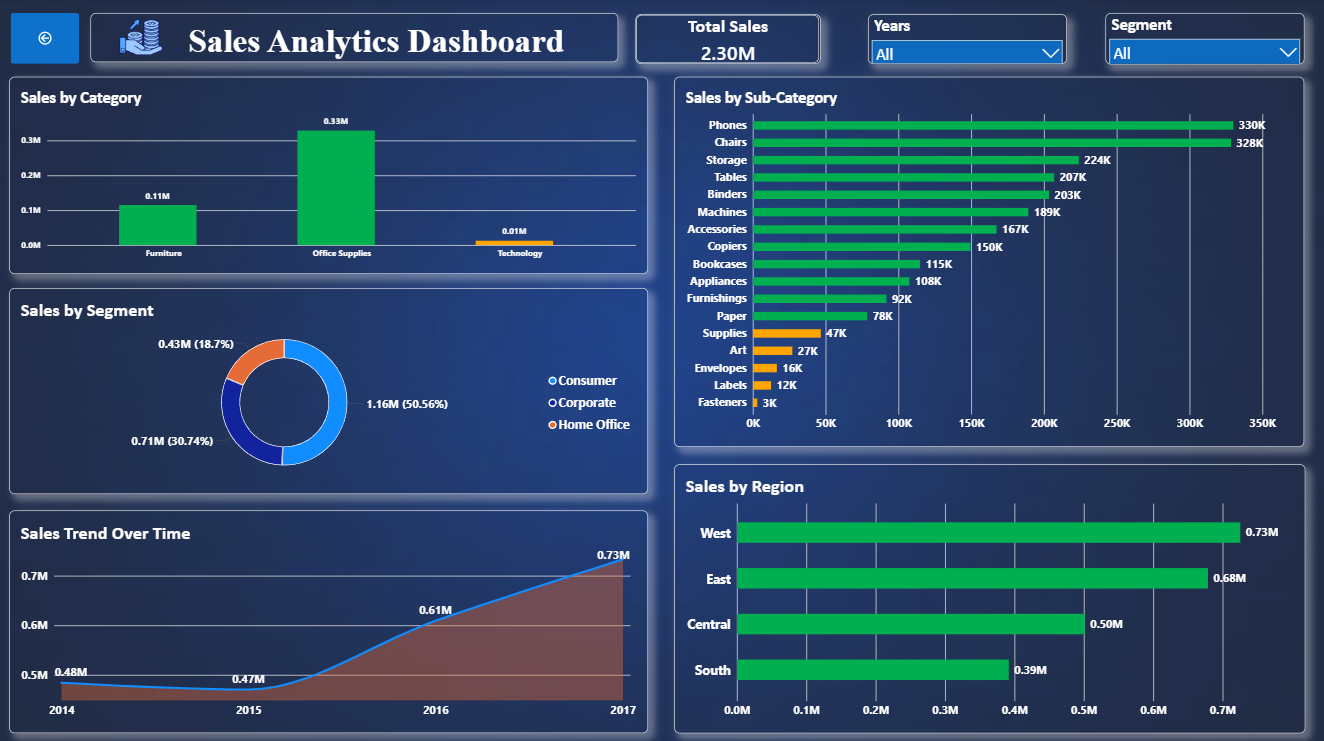

What the dashboard file says about the page in this screenshot:
{"tool":"powerbi","page":{"name":"Sales","canvas":[1920,1080],"ordinal":1},"visuals":[{"type":"textbox","box":[134.2,21.6,763.9,71.4],"z":0},{"type":"columnChart","title":"Sales by Category","fields":{"Category":["Abbreviations.Category Hierarchy.Category","Abbreviations.Category Hierarchy.Sub-Category"],"Y":["Sum(Data.Sales)"]},"box":[16.3,114,924.7,285.9],"z":1000},{"type":"barChart","title":"Sales by Sub-Category","fields":{"Category":["Abbreviations.Category Hierarchy.Category","Abbreviations.Category Hierarchy.Sub-Category"],"Y":["Sum(Data.Sales)"]},"box":[979,114,912.1,535.7],"z":2000},{"type":"lineChart","title":"Sales Trend Over Time","fields":{"Category":["Data.Order Date.Variation.Date Hierarchy.Year","Data.Order Date.Variation.Date Hierarchy.Quarter","Data.Order Date.Variation.Date Hierarchy.Month","Data.Order Date.Variation.Date Hierarchy.Day"],"Y":["Sum(Data.Sales)"]},"box":[16.3,742,924.7,322.1],"z":3000},{"type":"donutChart","title":"Sales by Segment","fields":{"Category":["Data.Segment"],"Y":["Sum(Data.Sales)"]},"box":[16.3,419.8,924.7,298.6],"z":4000},{"type":"barChart","title":"Sales by Region","fields":{"Category":["Data.Region Hierarchy.Region","Data.Region Hierarchy.State","Data.Region Hierarchy.City"],"Y":["Sum(Data.Sales)"]},"box":[978.2,675.2,913.3,389.5],"z":5000},{"type":"cardVisual","fields":{"Data":["Data.Total Sales"]},"box":[922.9,23.5,267.8,72.4],"z":7000},{"type":"image","box":[116.9,26,179.6,62.8],"z":8000},{"type":"slicer","fields":{"Values":["Data.Years"]},"box":[1259.5,23.5,287.7,72.4],"z":9000},{"type":"slicer","fields":{"Values":["Data.Segment"]},"box":[1603.4,21.7,287.7,74.2],"z":11000},{"type":"actionButton","box":[17.3,21.6,99.6,73.6],"z":11001}]}

Visuals, with their boxes in screenshot pixels (x1, y1, x2, y2), scaled from the page's 1920x1080 canvas onto the 1324x741 screenshot:
textbox: locate(93, 15, 619, 64)
"Sales by Category" columnChart: locate(11, 78, 649, 274)
"Sales by Sub-Category" barChart: locate(675, 78, 1304, 446)
"Sales Trend Over Time" lineChart: locate(11, 509, 649, 730)
"Sales by Segment" donutChart: locate(11, 288, 649, 493)
"Sales by Region" barChart: locate(675, 463, 1304, 731)
cardVisual - Data.Total Sales: locate(636, 16, 821, 66)
image: locate(81, 18, 204, 61)
slicer - Data.Years: locate(869, 16, 1067, 66)
slicer - Data.Segment: locate(1106, 15, 1304, 66)
actionButton: locate(12, 15, 81, 65)
